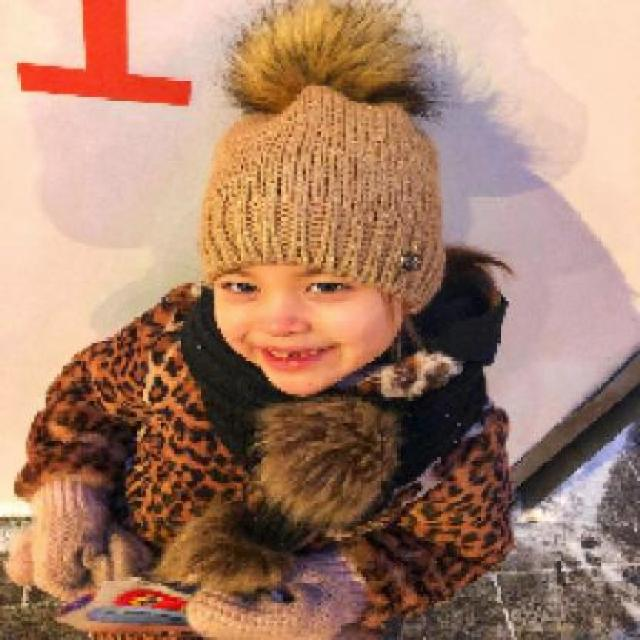child: (0, 0, 520, 637)
